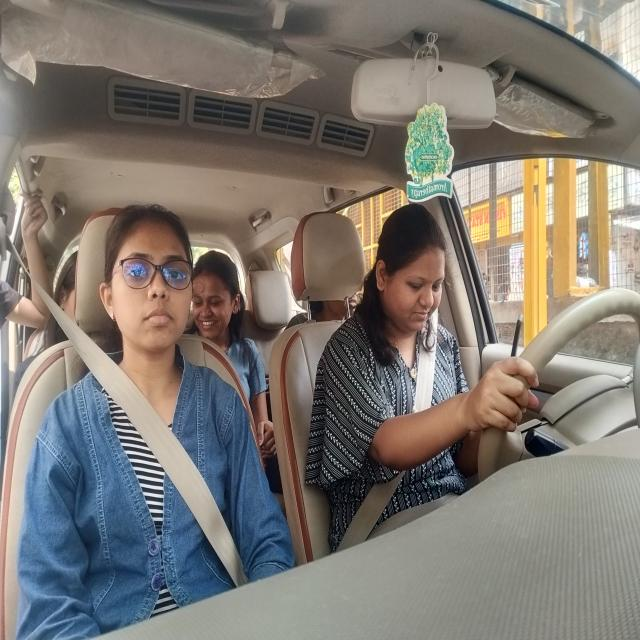mobile: (507, 312, 530, 370)
person: (104, 209, 196, 342), (384, 205, 444, 339), (197, 250, 236, 344), (58, 260, 80, 340)
